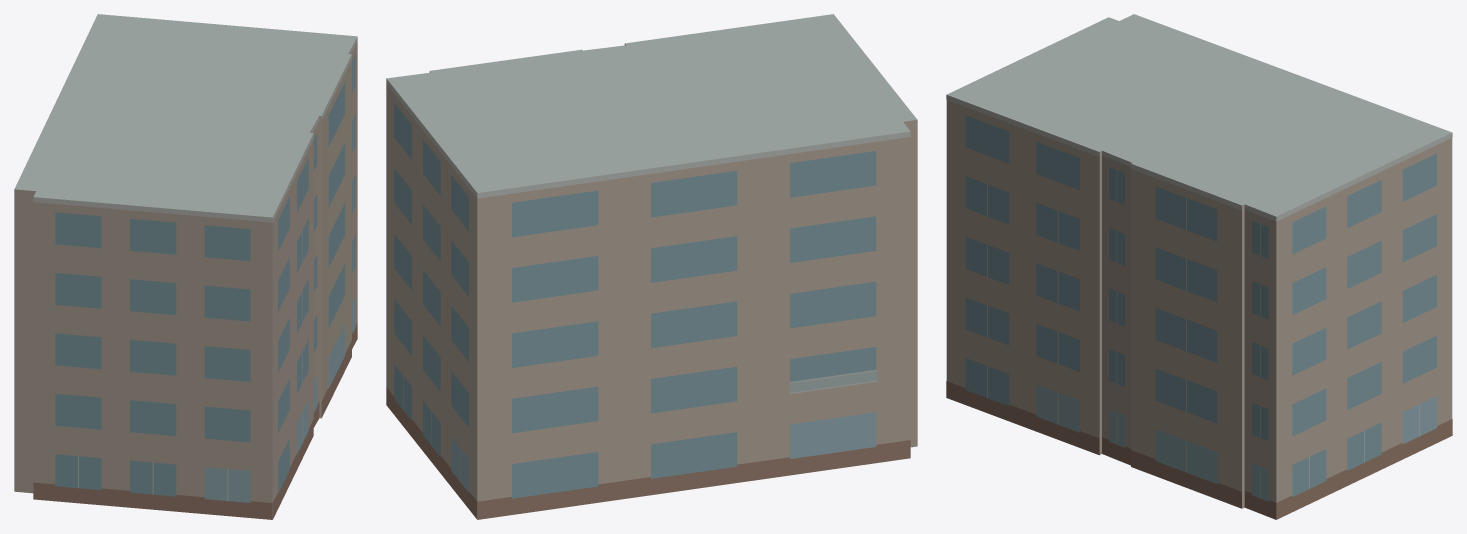
File: survey-upis-32669062.glb
3 views of the same model, side by side, from view 1: azimuth 30°, elevation 25°; view 2: azimuth 150°, elevation 25°; view 3: azimuth 270°, elevation 25° (orthographic). The views are drawn at different scales.
Parts seen in each view (by area): view 1: survey-upis-32669062.tmp; view 2: survey-upis-32669062.tmp; view 3: survey-upis-32669062.tmp.
Part boxes in pixels (x1,y1,x2,y2): survey-upis-32669062.tmp: [14, 14, 357, 519]; survey-upis-32669062.tmp: [386, 14, 917, 519]; survey-upis-32669062.tmp: [946, 14, 1452, 519].
Bounding box in the file's own units: 21.03 × 14.66 × 22.18.
